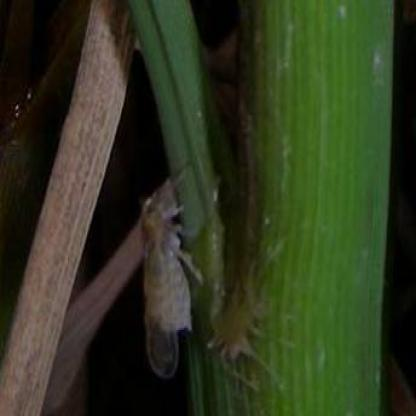brown-planthopper: (138, 178, 197, 374)
